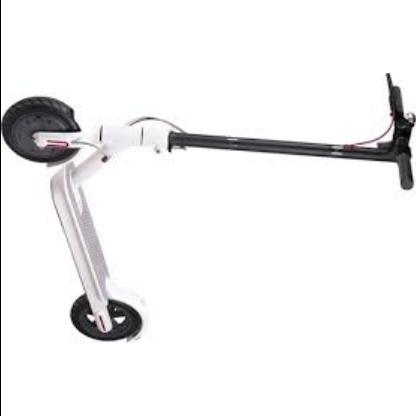bike: (3, 93, 415, 345)
